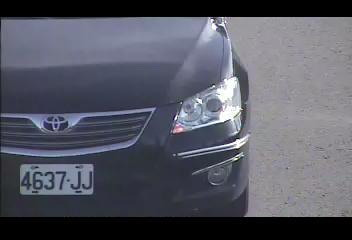plate: (18, 163, 95, 197)
